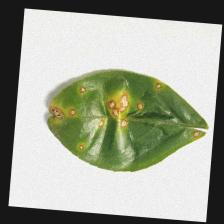canker: (42, 76, 157, 152)
